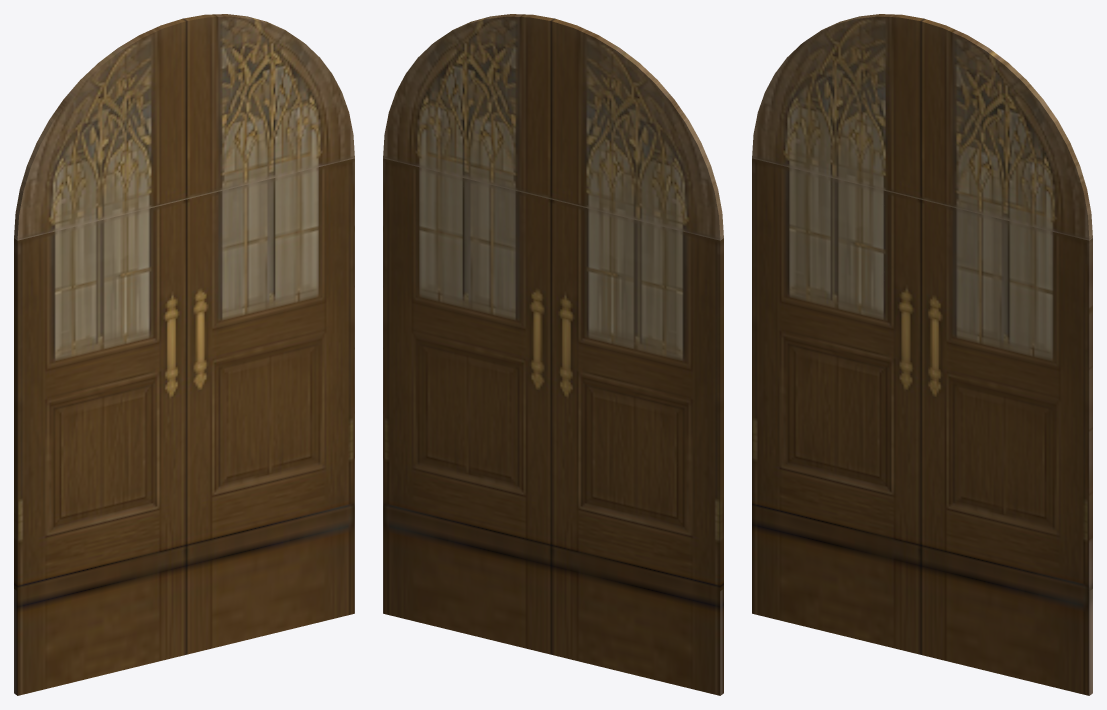
The model's file is Furn_Entrance_Dorm_Door.fbx.
3 renders of one model, left to right at view 1: azimuth 30°, elevation 25°; view 2: azimuth 150°, elevation 25°; view 3: azimuth 330°, elevation 25°, orthographic.
Visible parts, largest first — view 1: Furn_Entrance_Dorm_Door_L, Furn_Entrance_Dorm_Door_R; view 2: Furn_Entrance_Dorm_Door_L, Furn_Entrance_Dorm_Door_R; view 3: Furn_Entrance_Dorm_Door_R, Furn_Entrance_Dorm_Door_L.
Part boxes in pixels (x1,y1,x2,y2): Furn_Entrance_Dorm_Door_L: [14, 18, 186, 695]; Furn_Entrance_Dorm_Door_R: [183, 14, 354, 654]; Furn_Entrance_Dorm_Door_L: [551, 18, 723, 695]; Furn_Entrance_Dorm_Door_R: [383, 14, 554, 654]; Furn_Entrance_Dorm_Door_R: [920, 18, 1092, 695]; Furn_Entrance_Dorm_Door_L: [752, 14, 923, 654].
Bounding box in the file's own units: 2.2 × 3.96 × 0.04.
Materials: 1 (1 with a texture image).
